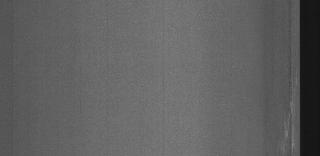silk spot: (282, 7, 298, 153)
